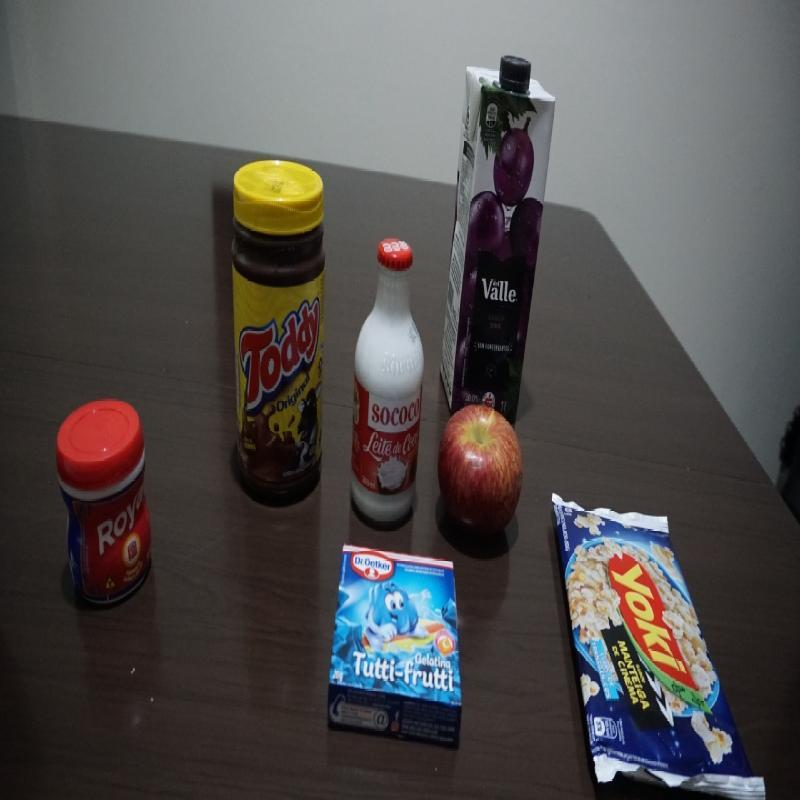Apple: (437, 404, 523, 540)
Chocolate Powder: (230, 159, 326, 504)
Coconut Milk: (350, 236, 426, 527)
Gelatine: (328, 541, 464, 751)
Popcorn: (546, 490, 766, 798)
Yeast: (51, 398, 156, 610)
